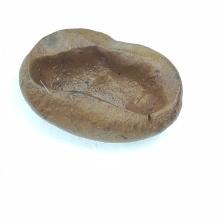NG: (27, 42, 179, 123)
